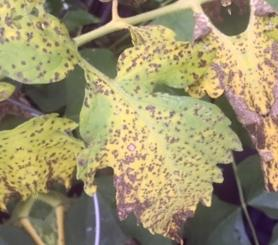Tomato leaf bacterial spot: (52, 42, 271, 245), (148, 0, 278, 226), (98, 4, 221, 111), (10, 99, 109, 215), (0, 0, 98, 105)
